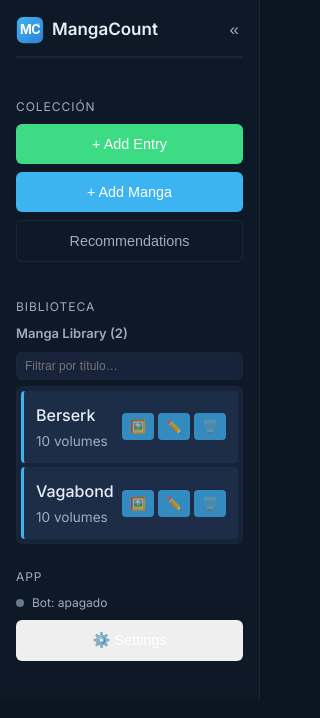
Scenario: Sidebar Component › filtra el Manga Library por título
This screenshot has width=320, height=718.
Type "bers" into the search field named "Filtrar mangas" at coordinates (130, 366), box [16,352,243,380]
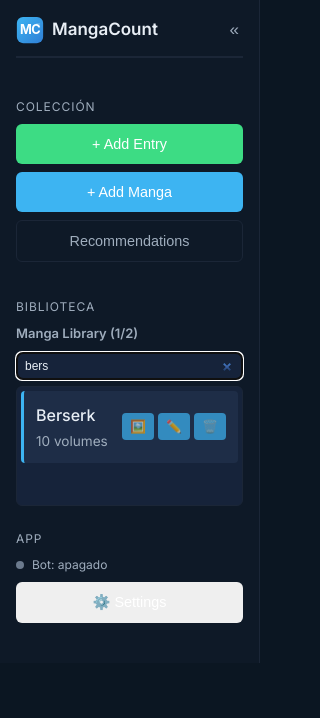
Check: the text "Berserk" is shown, box [36,404,96,424]
Check: the text "Vagabond" is gone
Check: the heading "Manga Library (1/2)" is shown, box [16,325,138,341]
